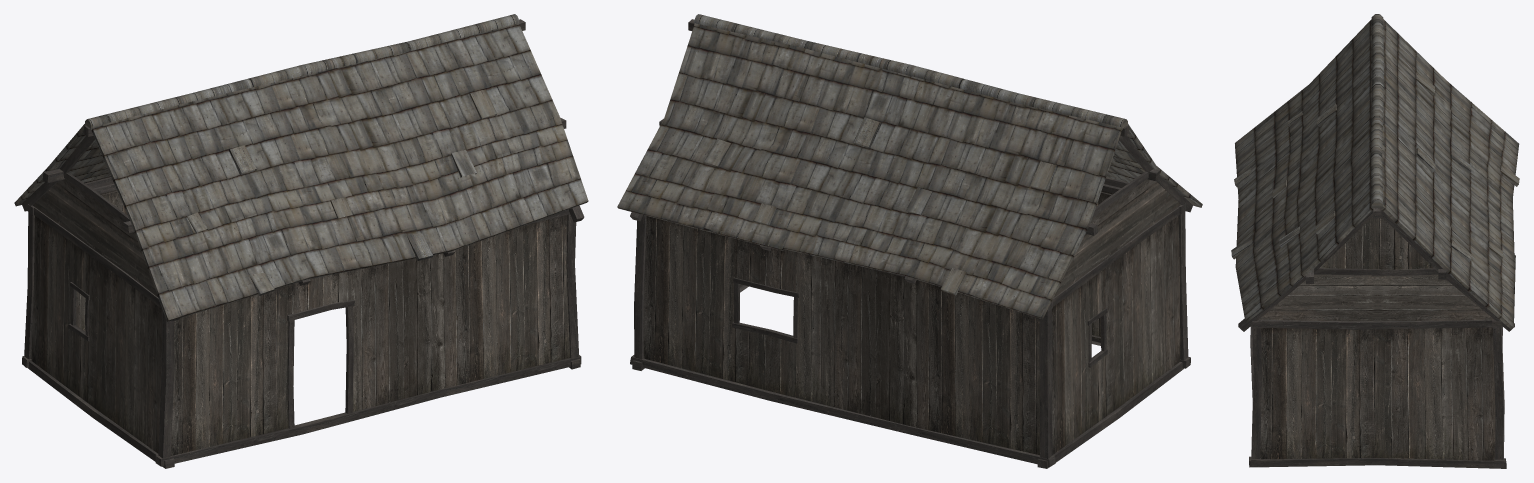
The model's file is hut_out.obj.
The picture shows the model from 3 angles, left to right: view 1: azimuth 30°, elevation 25°; view 2: azimuth 150°, elevation 25°; view 3: azimuth 270°, elevation 25°; orthographic projection. The views are drawn at different scales.
Parts seen in each view (by area): view 1: HutOutside; view 2: HutOutside; view 3: HutOutside.
Part boxes in pixels (bbox=[...]): HutOutside: bbox=[14, 14, 588, 468]; HutOutside: bbox=[617, 14, 1202, 468]; HutOutside: bbox=[1231, 14, 1519, 468].
Bounding box in the file's own units: 4.96 × 3.21 × 3.08.
3 materials, 3 textured.
